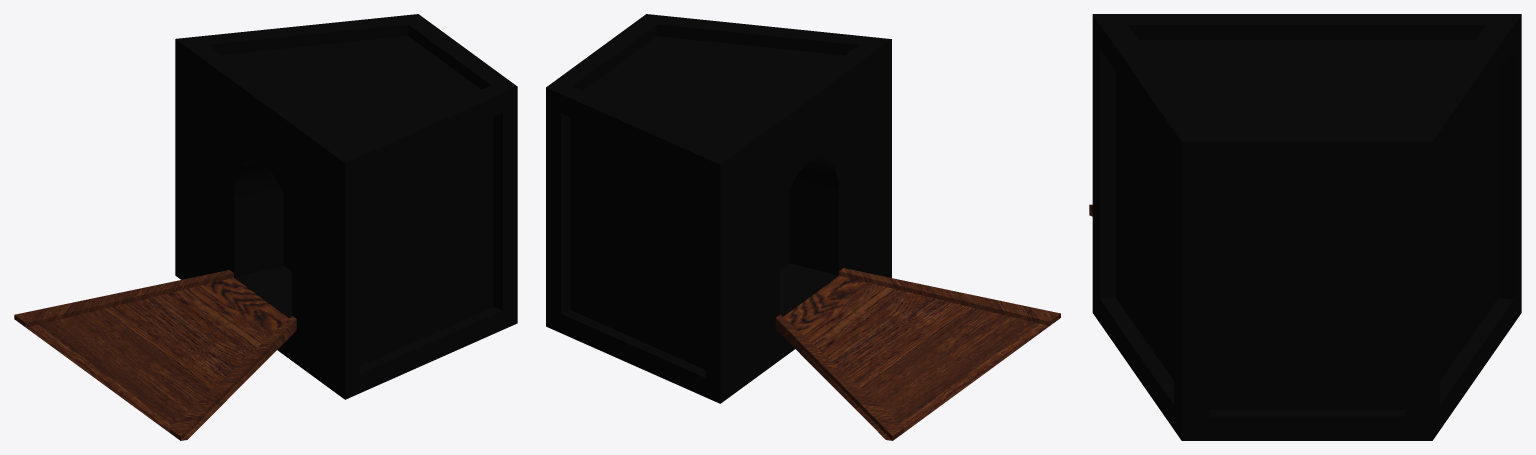
The model's file is EDIFICACIÓN RARA (ZONA 2).fbx.
3 renders of one model, left to right at view 1: azimuth 30°, elevation 25°; view 2: azimuth 150°, elevation 25°; view 3: azimuth 270°, elevation 25°, orthographic. The views are drawn at different scales.
Parts seen in each view (by area): view 1: Edificación Rara; view 2: Edificación Rara; view 3: Edificación Rara.
Part boxes in pixels (<box>): Edificación Rara: <box>14,14,517,440</box>; Edificación Rara: <box>546,14,1060,440</box>; Edificación Rara: <box>1089,14,1521,440</box>.
Size of the model in its own units: 129 by 78.06 by 102.
